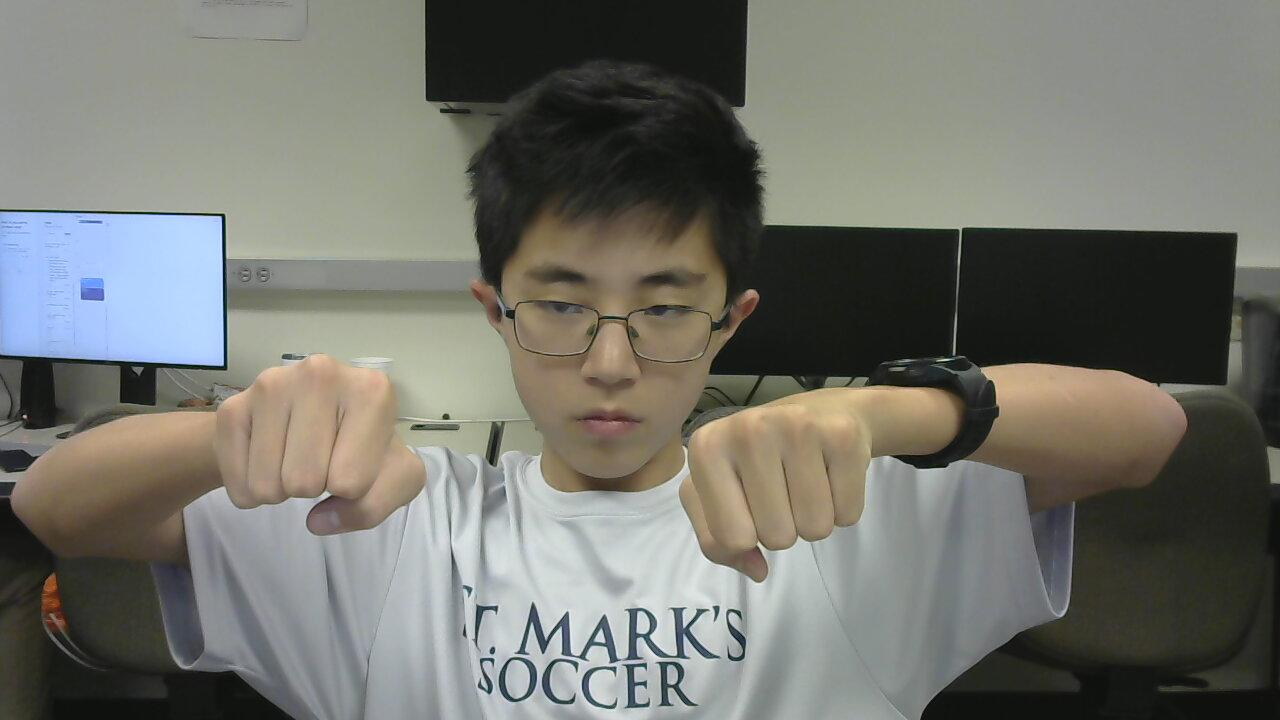fist: (213, 324, 437, 551), (668, 397, 895, 599)
